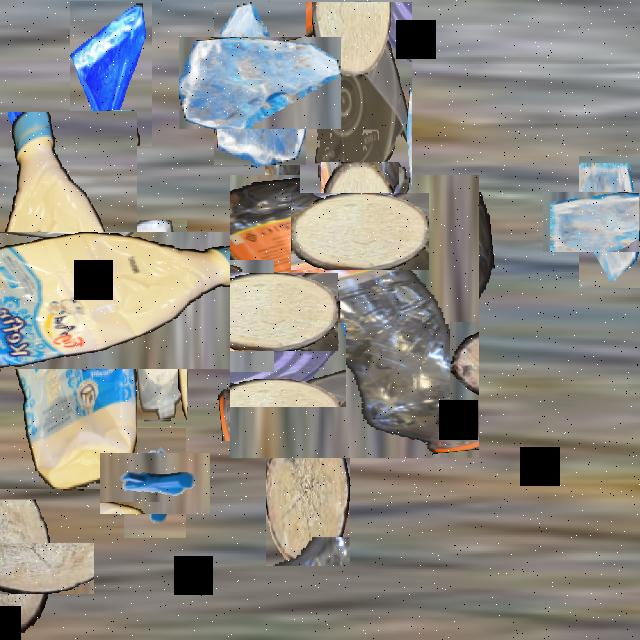glass: (196, 20, 324, 147), (248, 175, 366, 291), (70, 2, 152, 148), (561, 173, 640, 270)
metal: (112, 441, 198, 526)
plastic: (222, 183, 488, 450), (0, 172, 197, 429), (300, 2, 412, 236), (92, 255, 222, 385)
wood: (266, 412, 350, 566), (306, 177, 414, 285), (0, 521, 72, 616)
